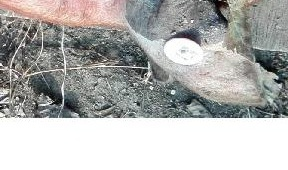text: (152, 21, 215, 76)
